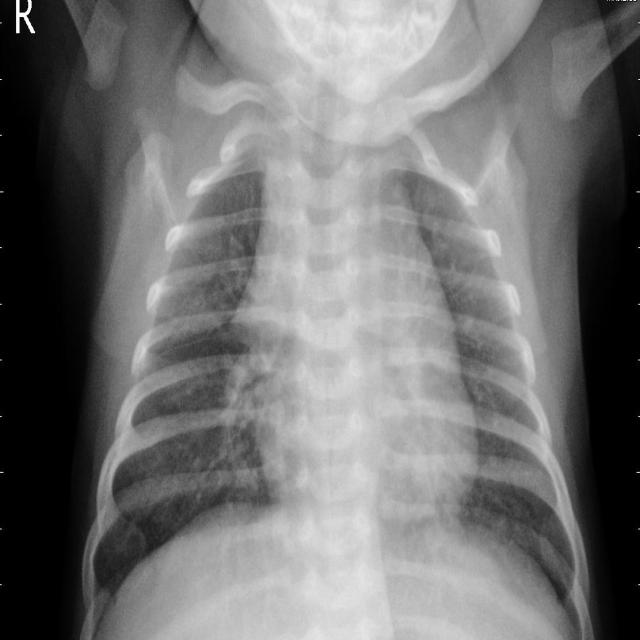low-pneumonia: (441, 208, 519, 358), (201, 355, 264, 503)
